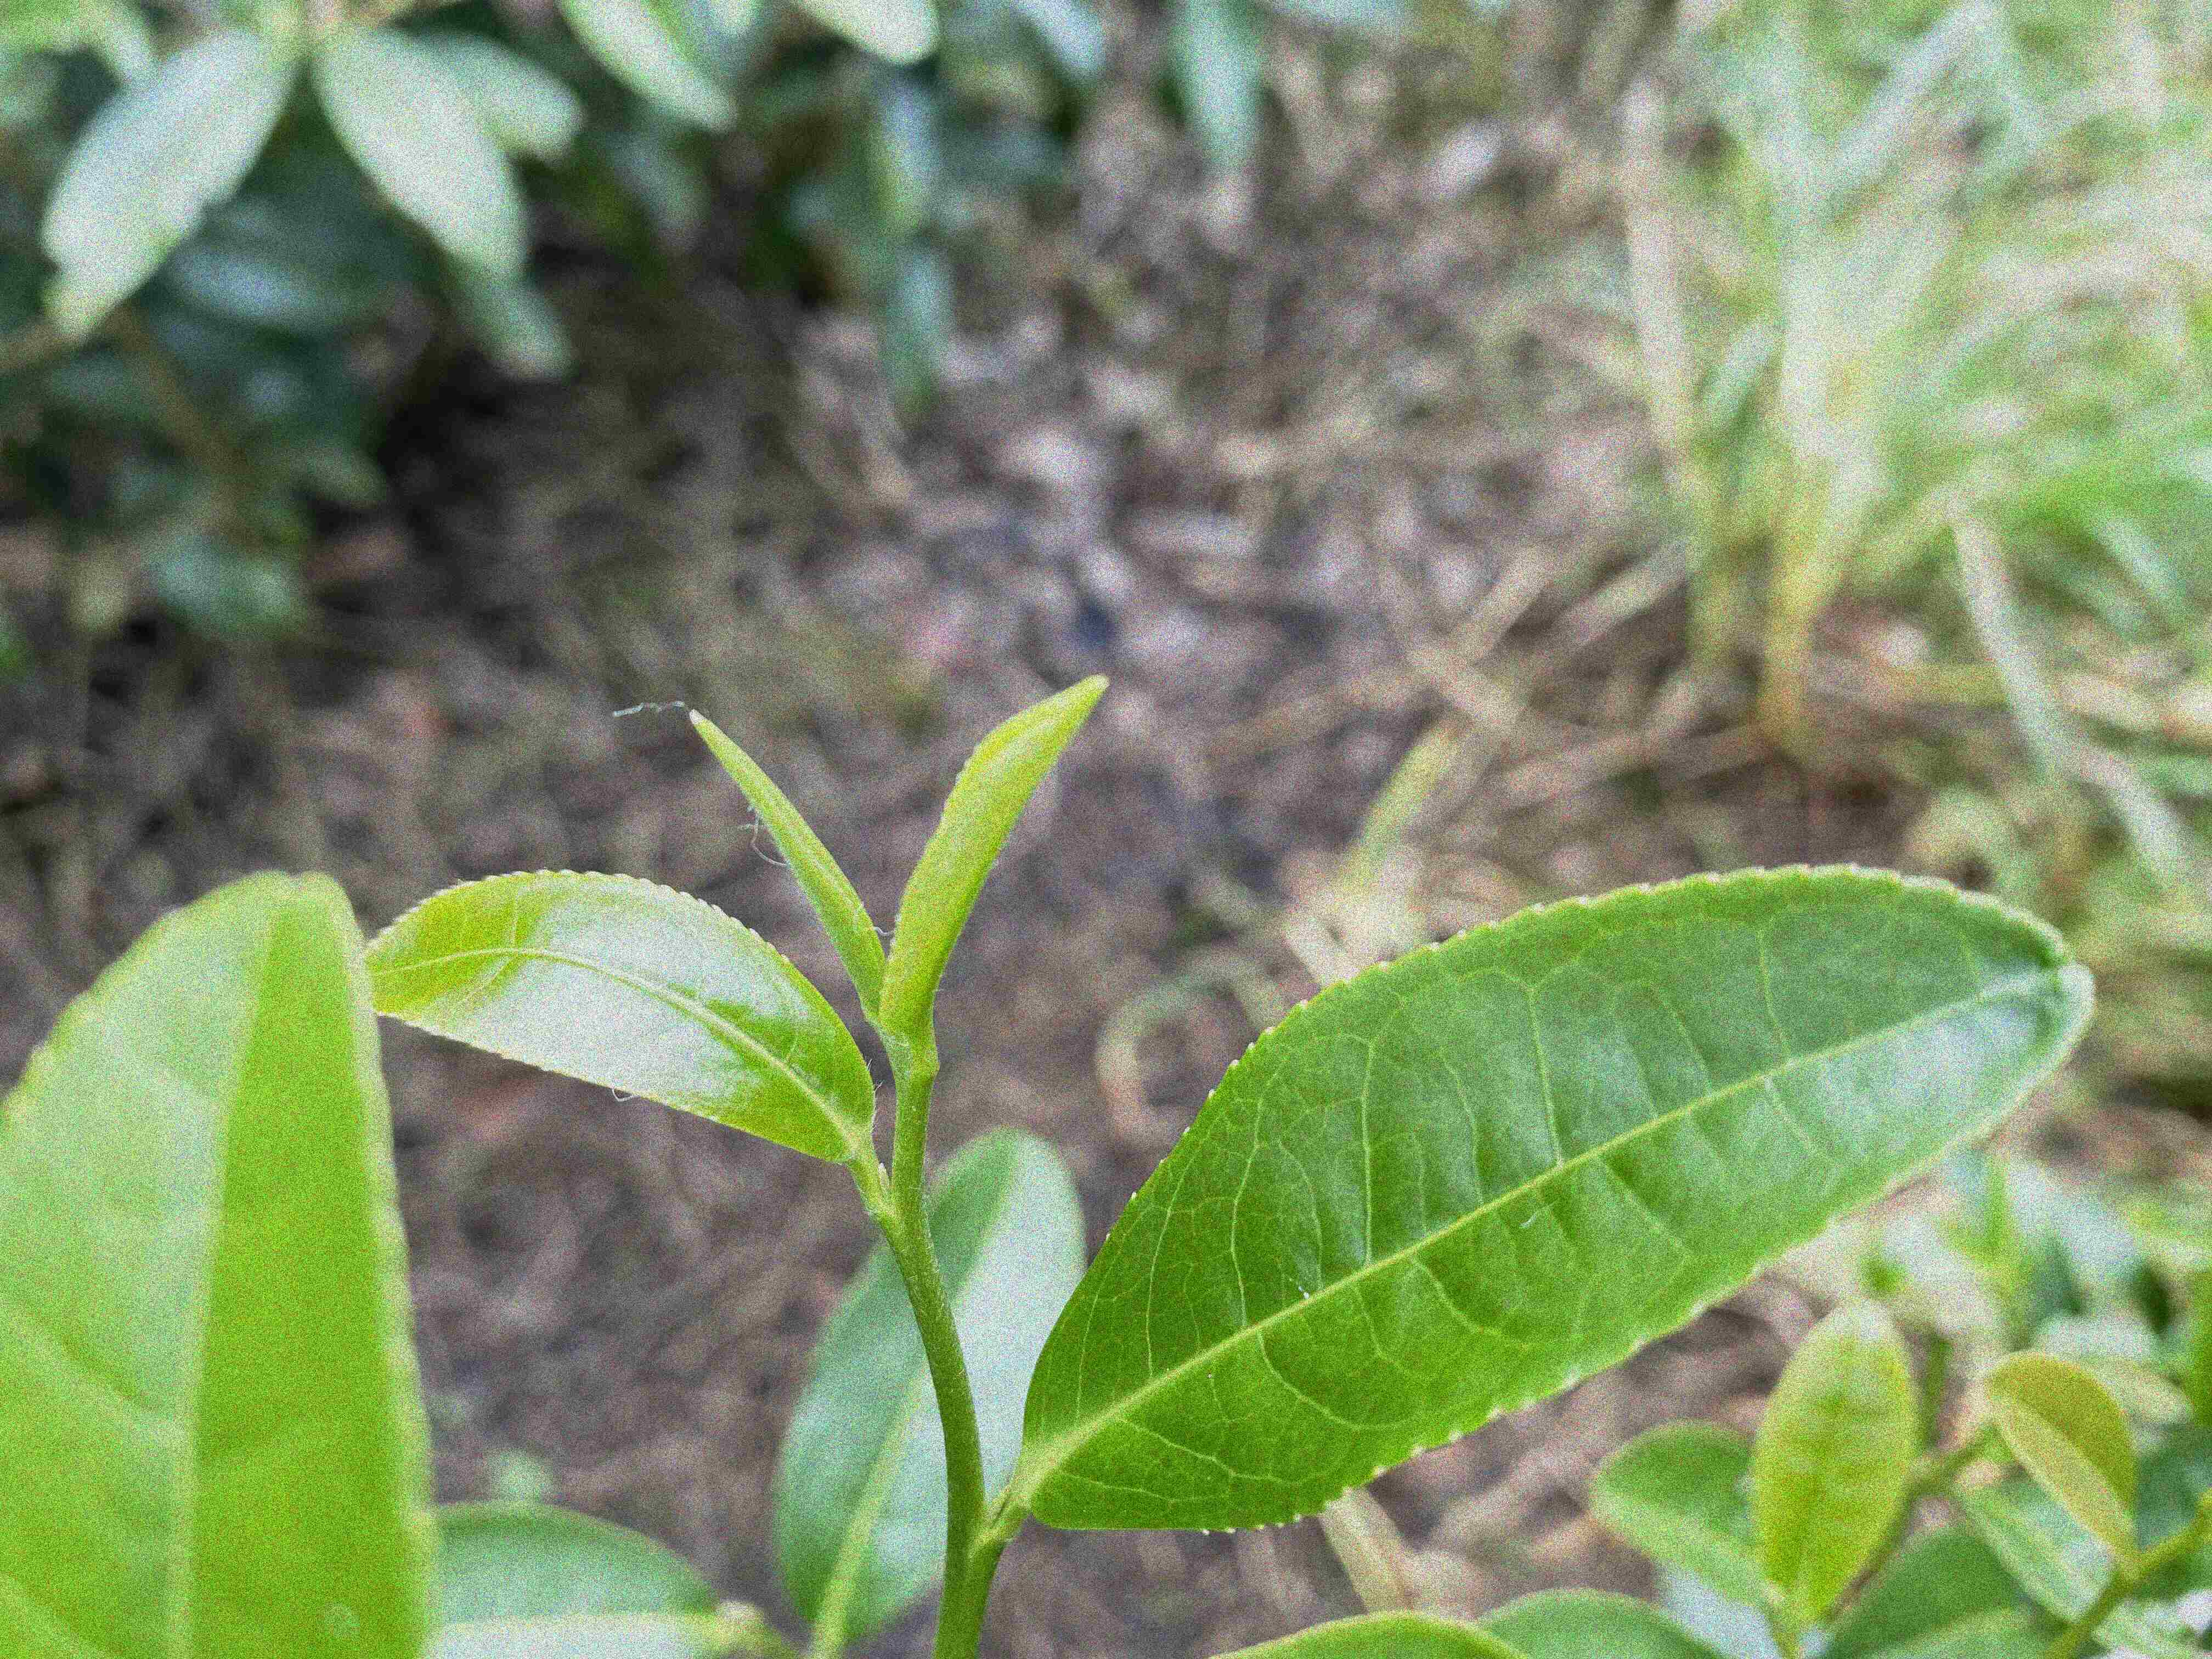healthy: (1019, 864, 2094, 1535), (366, 863, 876, 1164)
